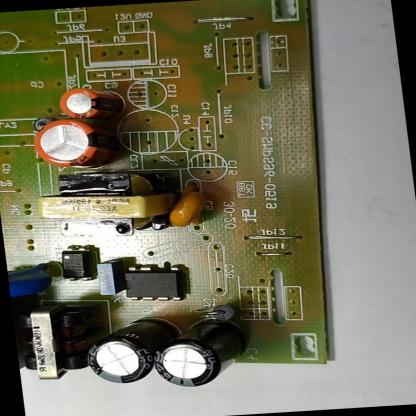Cap1: (31, 117, 123, 168)
Cap2: (57, 87, 124, 120)
Cap3: (85, 318, 161, 385)
Cap4: (152, 321, 249, 389)
MOSFET: (122, 264, 183, 303)
Mov: (7, 264, 59, 296)
Transformer: (32, 164, 174, 242), (20, 307, 88, 381)
